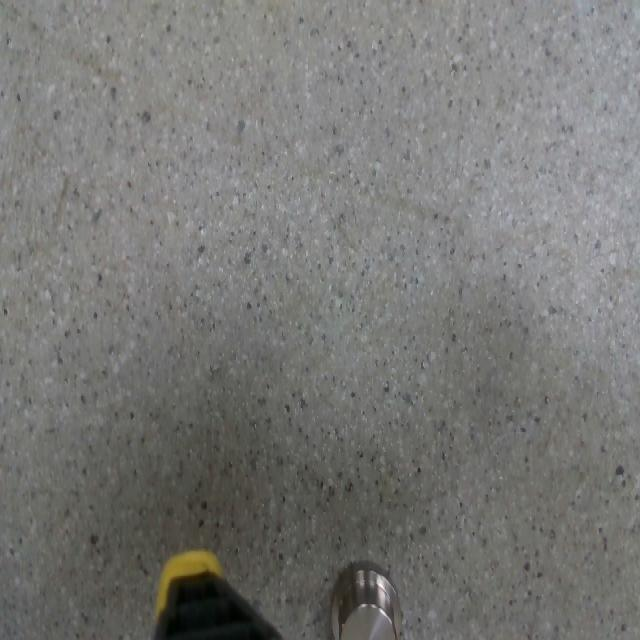sensor: (326, 559, 406, 640)
